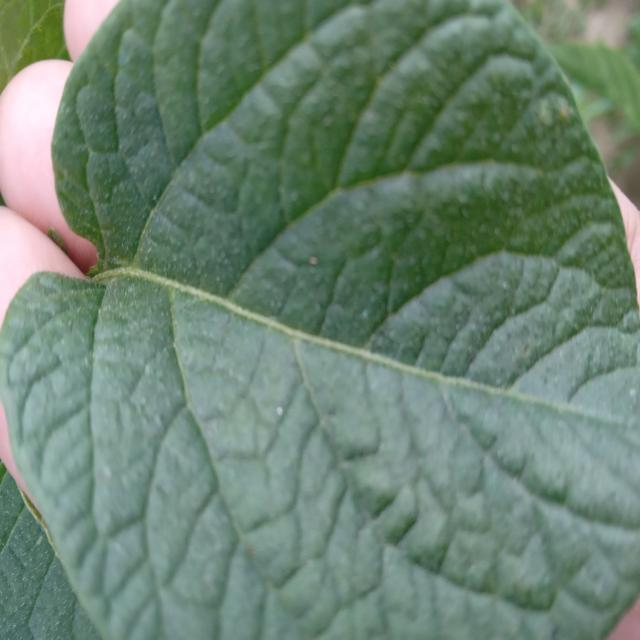healthy: (2, 2, 637, 637)
